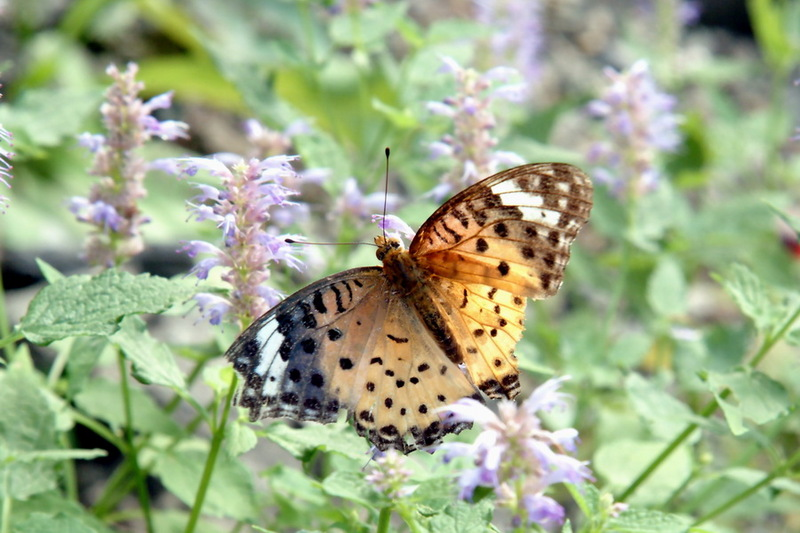Argyreus hyperbius: (222, 142, 598, 461)
butterfly: (220, 140, 596, 459)
